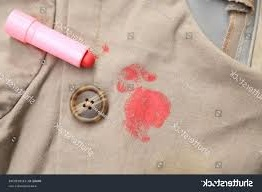lipstick: (121, 76, 170, 147), (115, 64, 160, 95), (101, 45, 114, 56)
